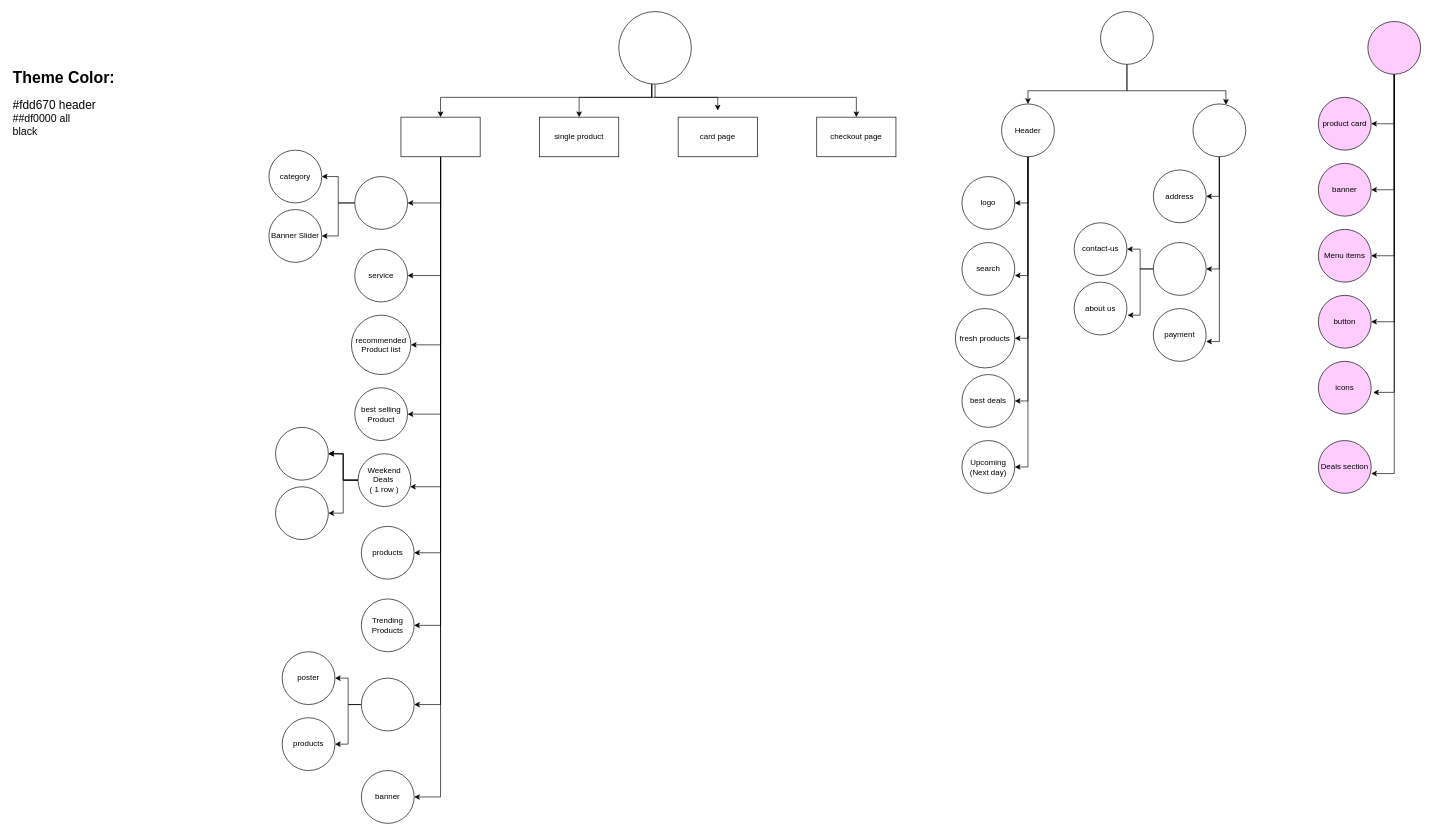
Image size: 1432x835. Some labels were removed from this diagram. The shapes that lost their labels are listed below. From the top down, each one's centre as x and y in pixels, then its label:
pixel 654 47: Beauty and Health
pixel 1126 37: Essentials
pixel 1394 47: components
pixel 440 136: Home
pixel 1219 130: Footer
pixel 381 202: Top bar
pixel 1179 268: important pages
pixel 301 453: product list
pixel 301 513: offer poster
pixel 387 704: Happy Hours
